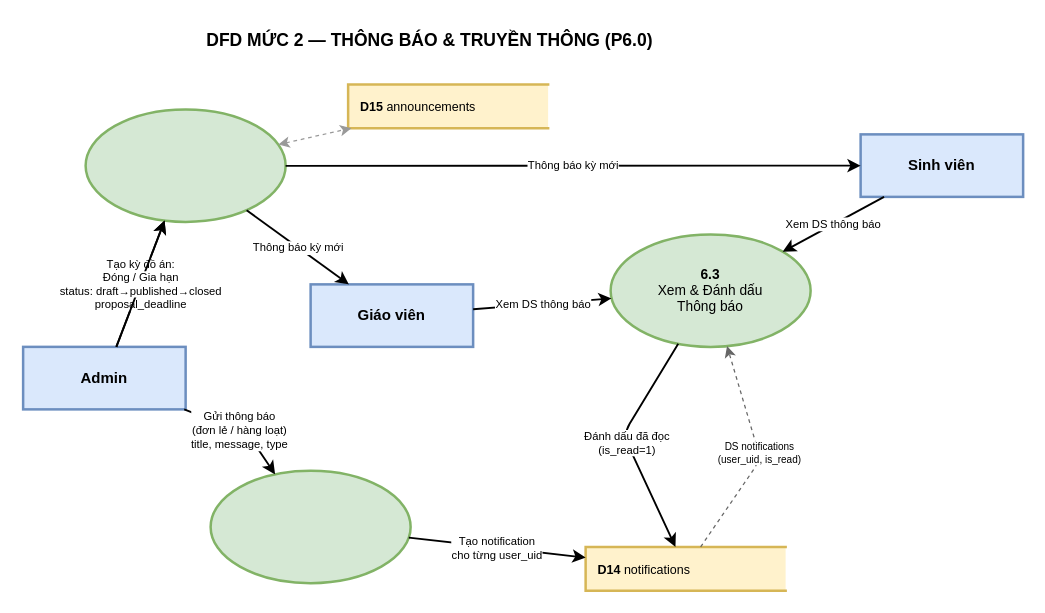
The diagram is 1045 pixels wide and 613 high, and some of its shapes have lost their labels. The centre of each missing label's shape, as x and y in pixels:
6.1 Quản lý Thông báo Kỳ: [185,165]
6.2 Gửi Thông báo Hệ thống: [310,526]
